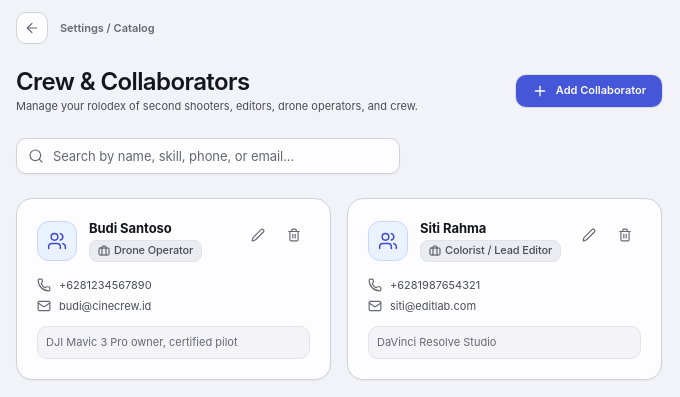
Test: CollaboratorsRoute & CollaboratorsList (STAB-P1-001) › renders list of collaborators with specialties, contacts, and search filtering
Expected: the heading "Crew & Collaborators" is shown, [16,67,250,96]
Expected: the heading "Budi Santoso" is shown, [89,220,172,236]
Note: Test Search filter
Step 1. Type "Drone" into the field with test id "collaborator-search-input" → {"x": 208, "y": 156}, box [16,138,400,174]
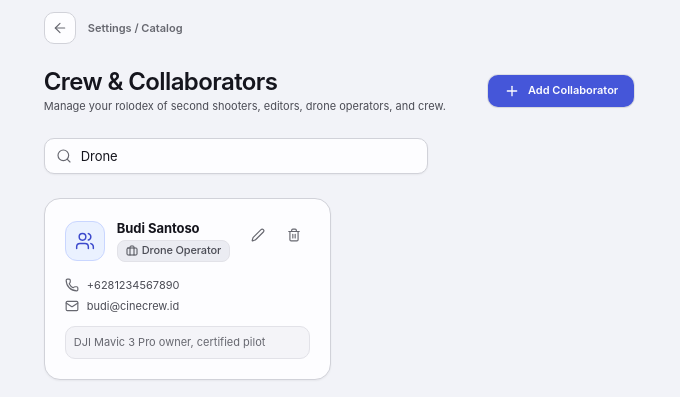
Expected: the heading "Budi Santoso" is shown, [117,220,200,236]
Expected: the heading "Siti Rahma" is gone
